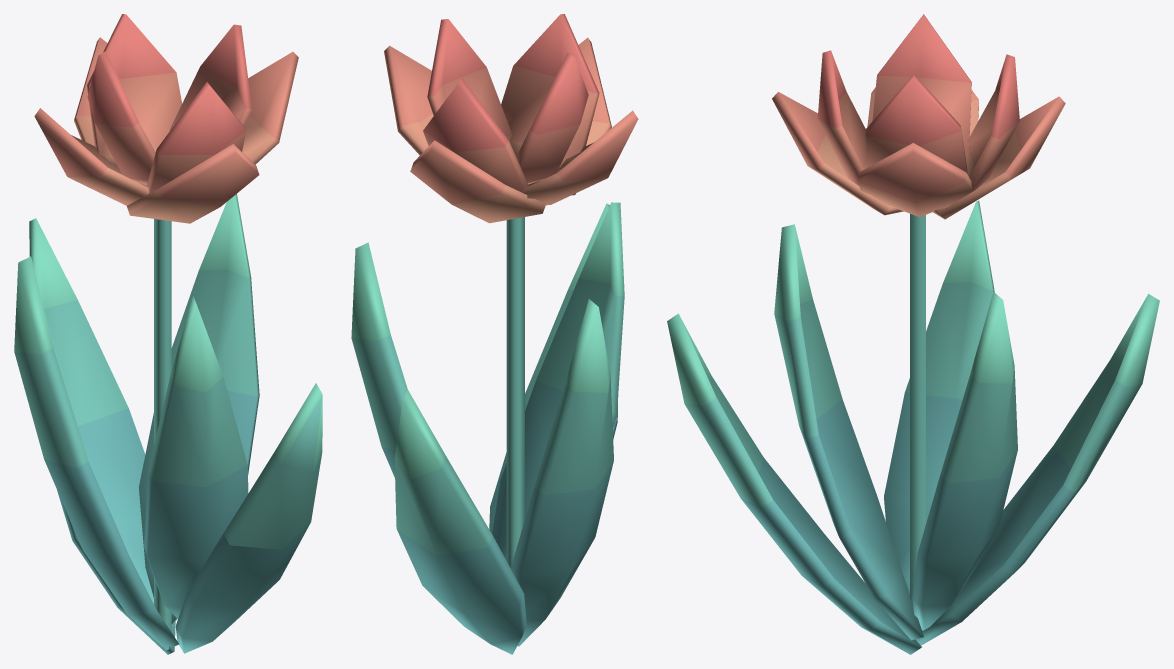
Rendered from lilie_red.glb.
3 views of the same model, side by side, from view 1: azimuth 30°, elevation 25°; view 2: azimuth 150°, elevation 25°; view 3: azimuth 270°, elevation 25° (orthographic). The views are drawn at different scales.
Visible parts, largest first — view 1: Lilie_Red.001; view 2: Lilie_Red.001; view 3: Lilie_Red.001.
Boxes of the visible parts, left/top/right/bottom form: Lilie_Red.001: left=14, top=14, right=322, bottom=654; Lilie_Red.001: left=351, top=14, right=638, bottom=654; Lilie_Red.001: left=667, top=14, right=1159, bottom=654.
Size of the model in its own units: 0.2341 by 0.5322 by 0.3926.
